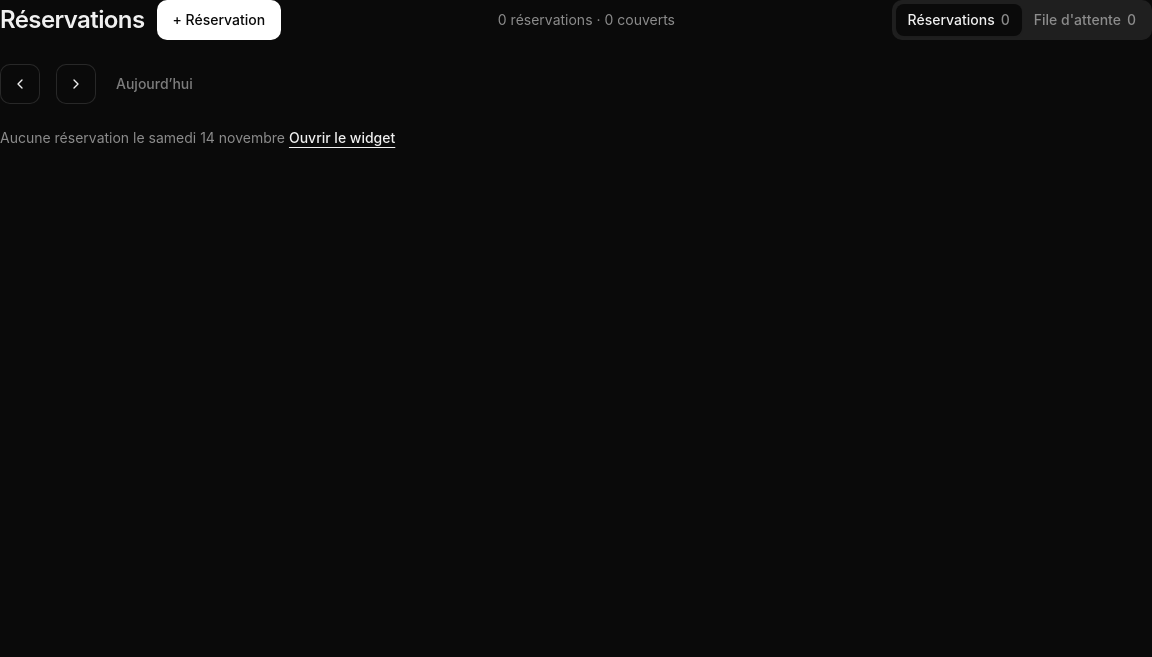
ReservationsPage › création par l’équipe › cache les heures passées et montre un message si elles sont toutes passées
Click the button "+ Réservation" at (219, 20), box [156,0,281,40]
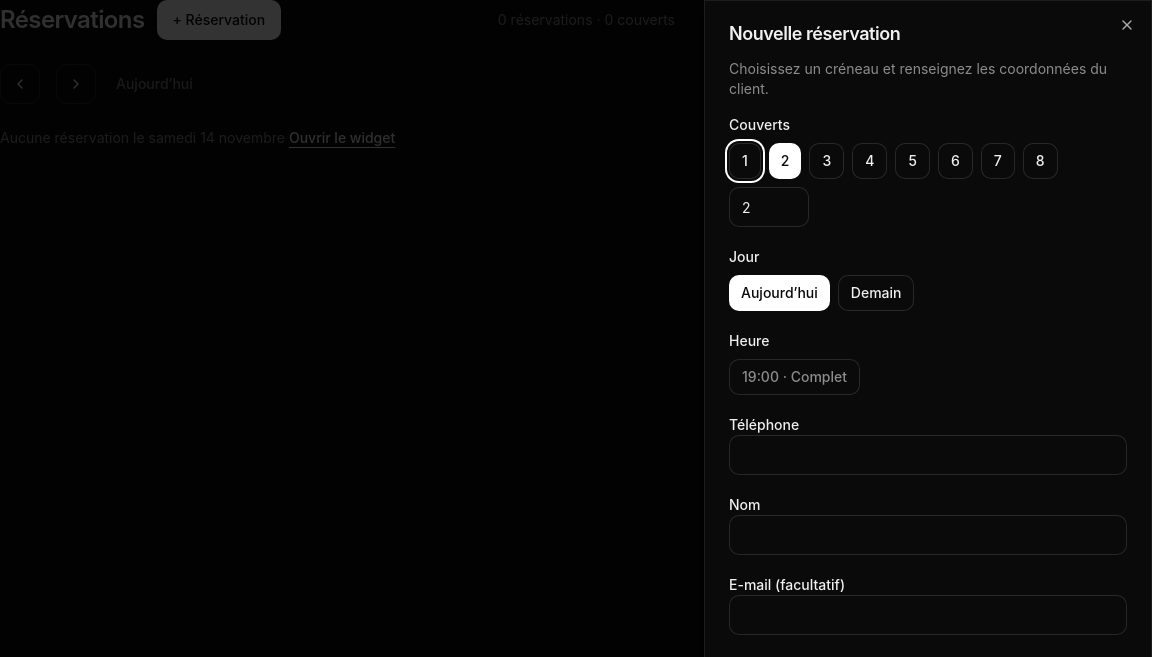
Result: the button with aria-label "19:00 — complet" is shown at [729,359,860,395]
Click the button "3" at (827, 161), box [810,143,844,179]
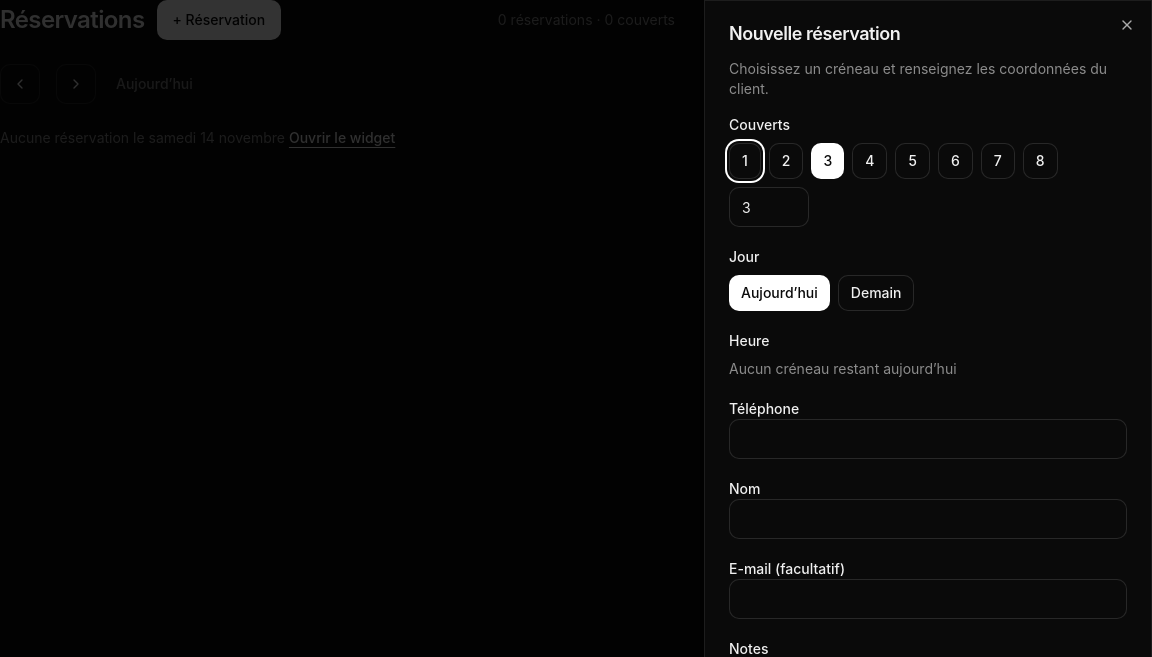
Result: the text "Aucun créneau restant aujourd’hui" is shown at [729,360,957,377]
